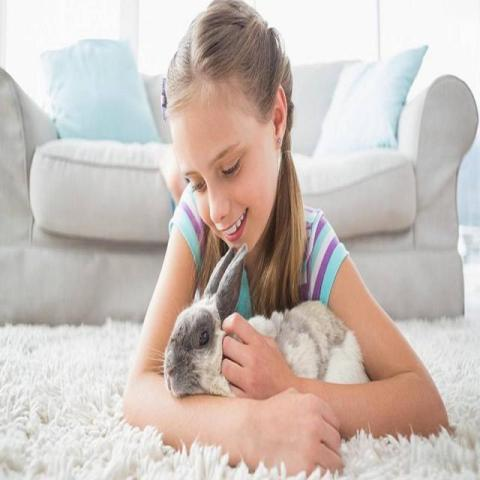small_animal: (160, 243, 371, 400)
